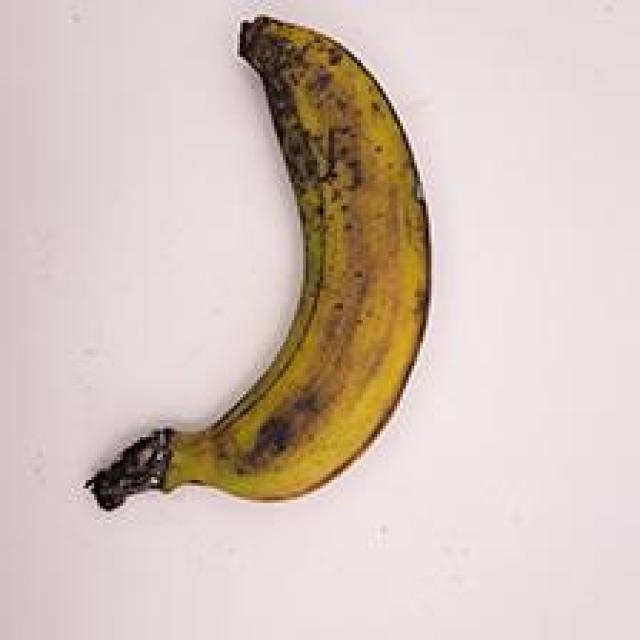Overripe: (80, 12, 452, 537)
